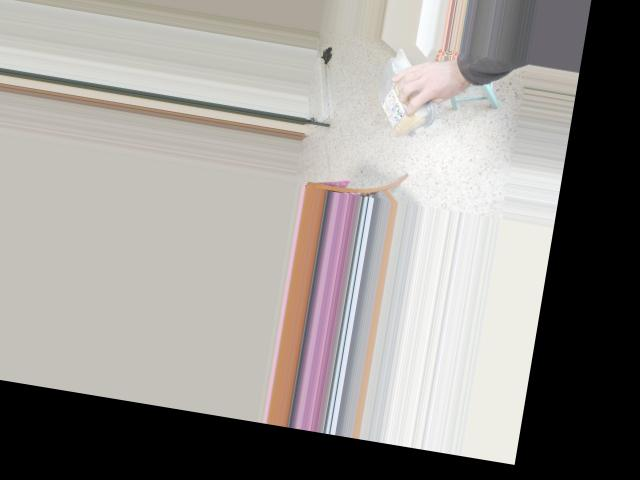cheese: (377, 51, 430, 148)
